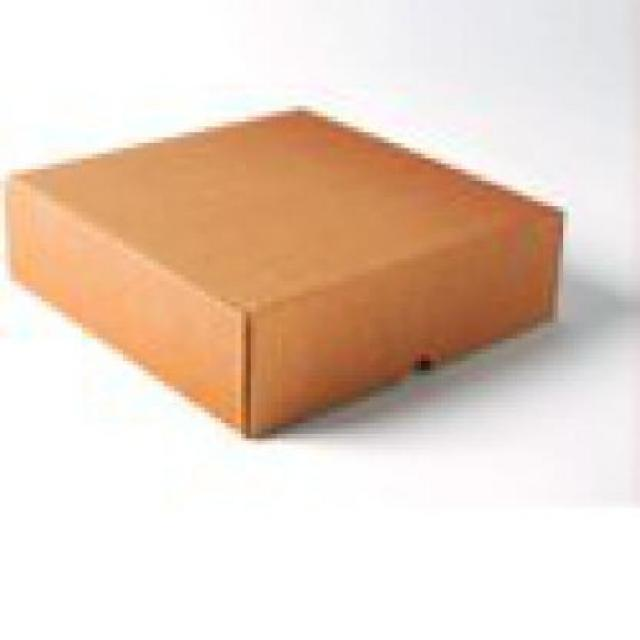box: (5, 106, 563, 438)
